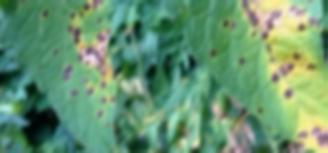Tomato Septoria leaf spot: (149, 0, 328, 153), (9, 0, 120, 153)
